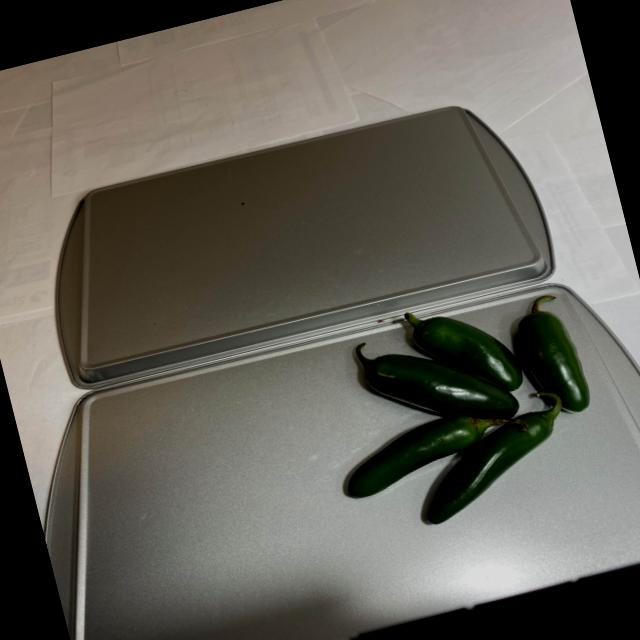chilli: (298, 273, 615, 556)
